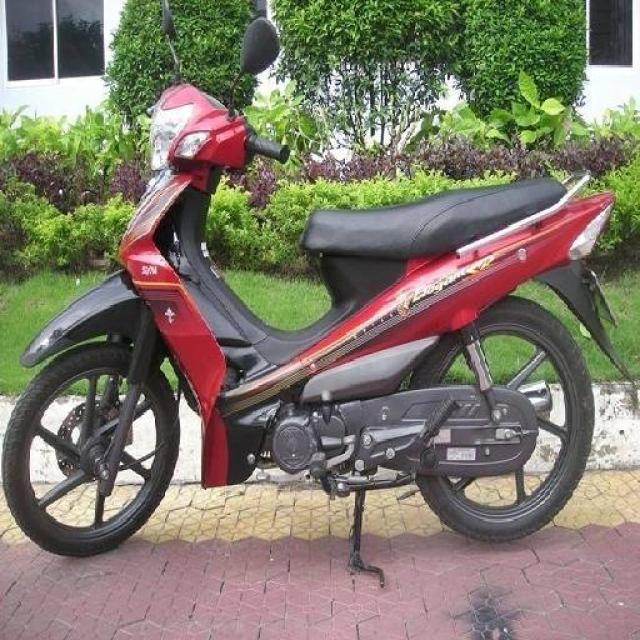All: (0, 80, 640, 560)
Head: (141, 83, 289, 177)
Tail: (524, 171, 616, 261)
